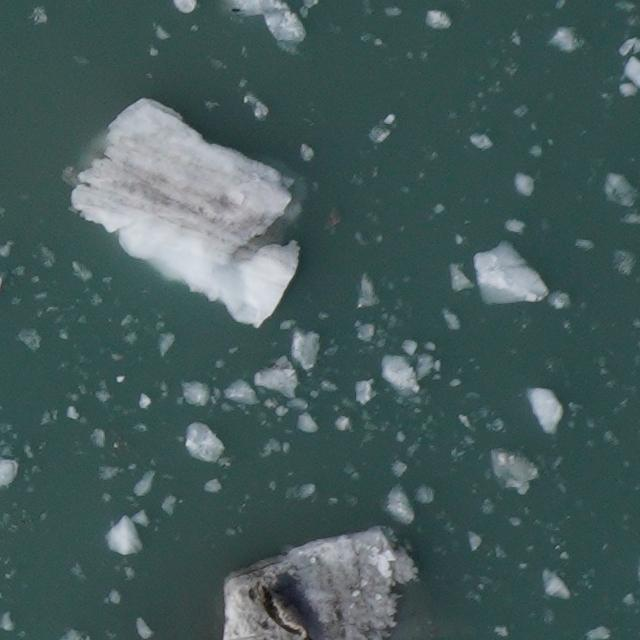seal: (255, 579, 315, 640)
